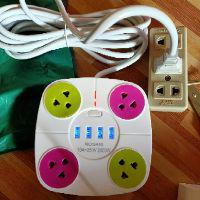Three_eye_plug: (31, 76, 154, 196), (145, 24, 190, 116)
